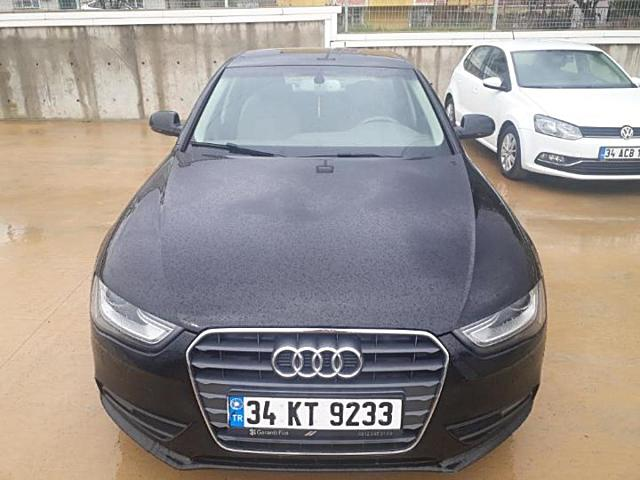audi: (266, 340, 368, 383)
